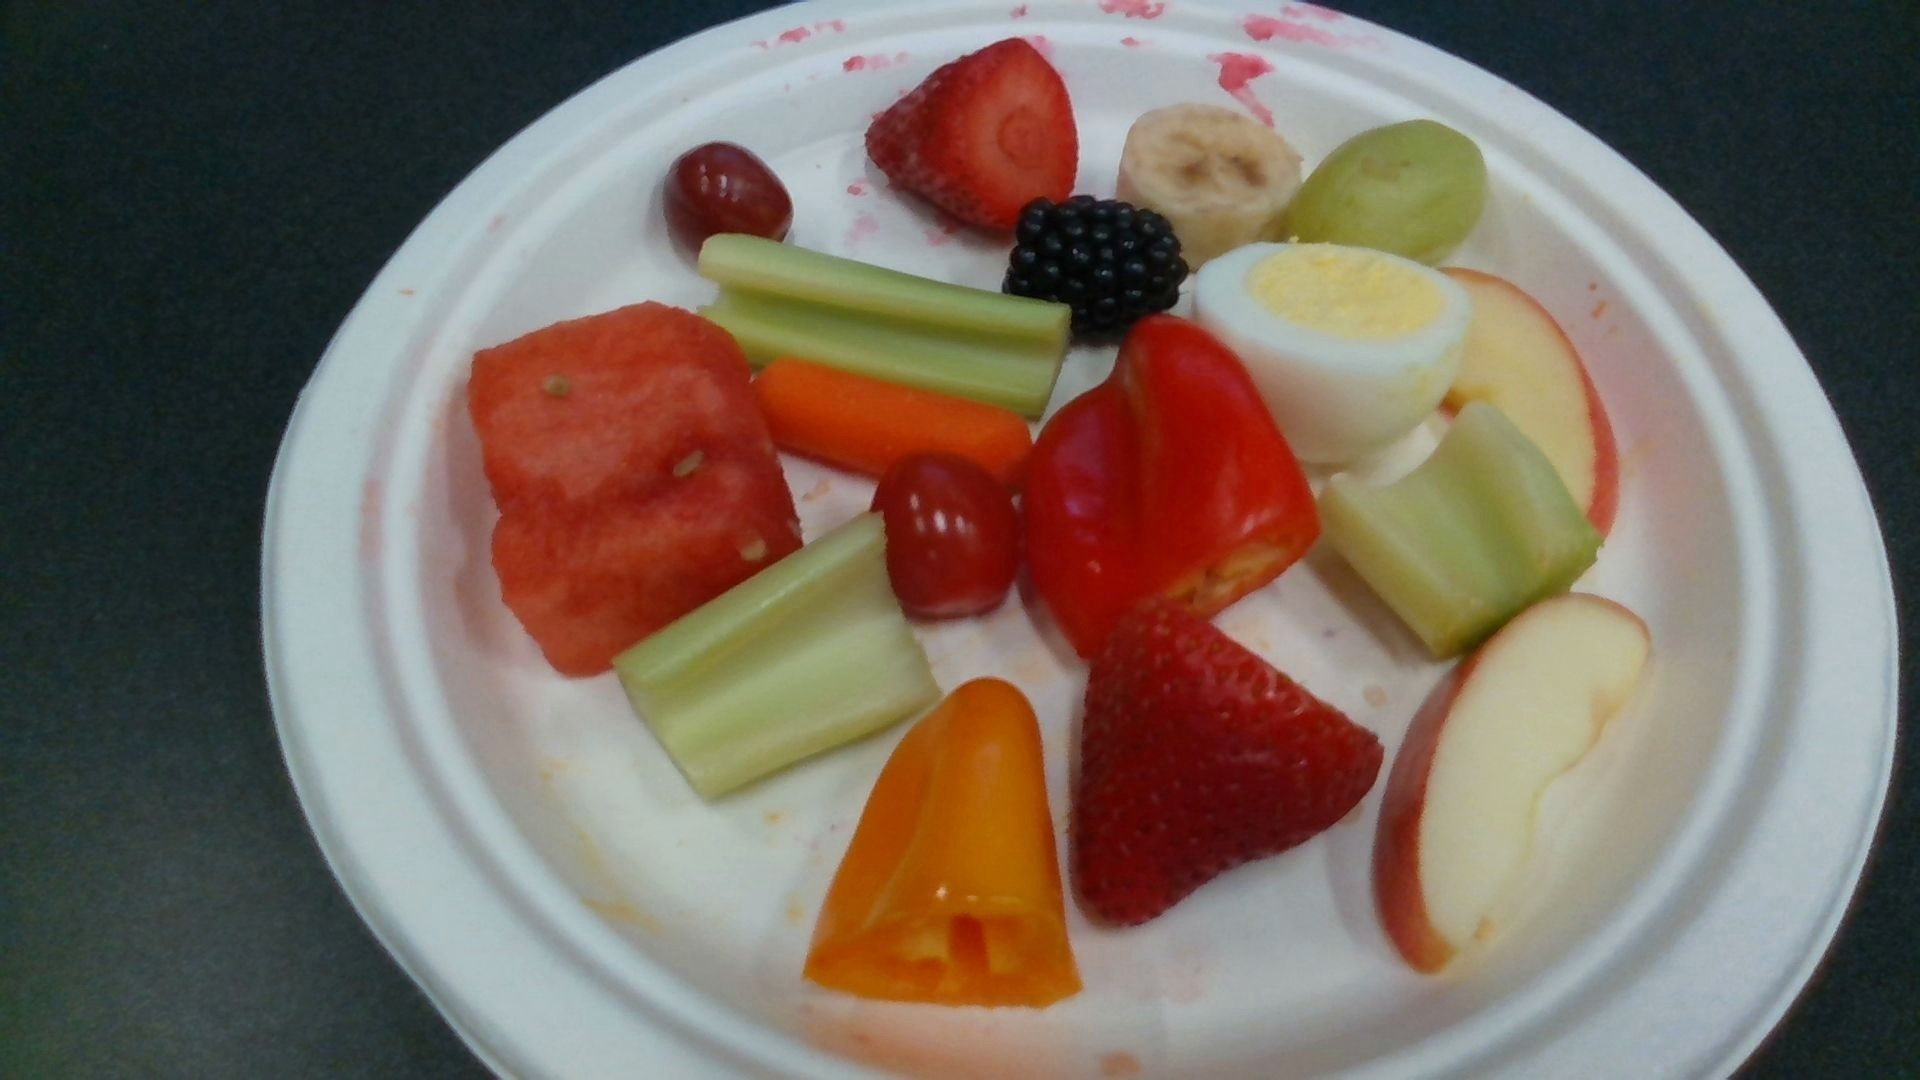apple: (1375, 600, 1647, 968), (1435, 268, 1615, 555)
banana: (1120, 105, 1299, 251)
bell_pepper: (1021, 315, 1315, 658), (804, 678, 1079, 1010)
blackberry: (1009, 200, 1185, 342)
carrot: (750, 355, 1033, 493)
celery: (615, 516, 932, 790), (695, 233, 1069, 423), (1313, 398, 1596, 650)
cherry_tomato: (876, 456, 1019, 620)
egg: (1193, 241, 1465, 462)
grape_green: (1284, 123, 1487, 262)
grape_purple: (665, 145, 790, 248)
melon: (472, 301, 804, 671)
strawberry: (1075, 603, 1379, 916), (866, 40, 1077, 231)
